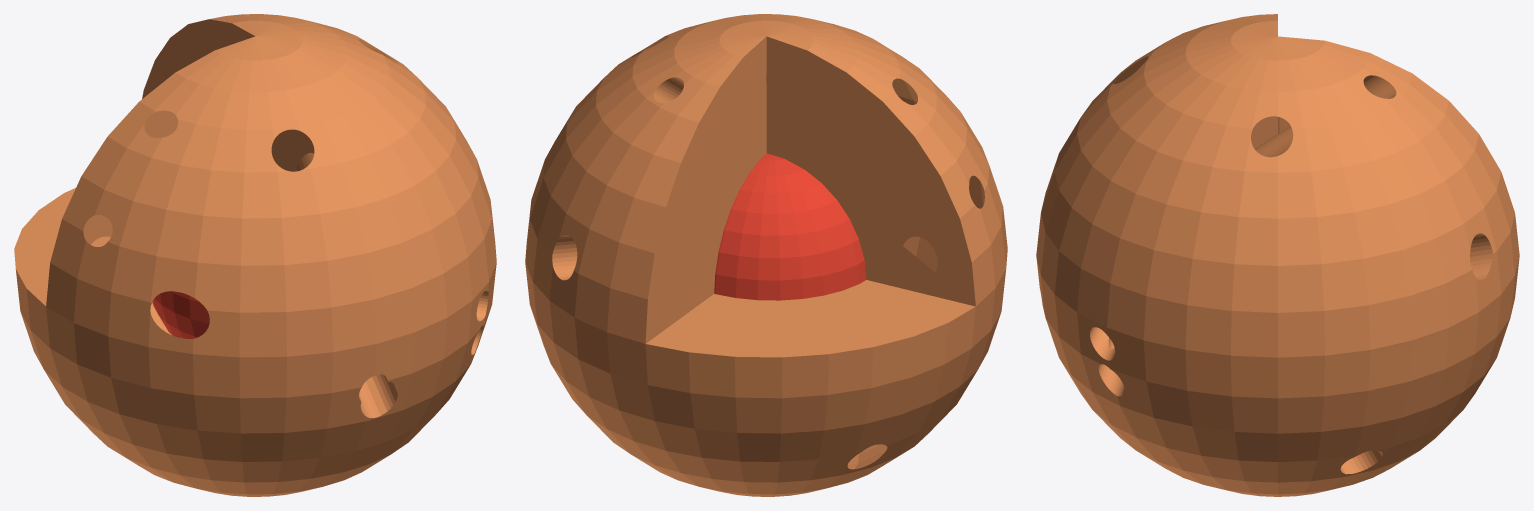
Rendered from intisel.fbx.
The picture shows the model from 3 angles, left to right: view 1: azimuth 30°, elevation 25°; view 2: azimuth 150°, elevation 25°; view 3: azimuth 270°, elevation 25°; orthographic projection.
Visible parts, largest first — view 1: Sphere.003, Sphere; view 2: Sphere.003, Sphere; view 3: Sphere.003.
Part boxes in pixels (x1,y1,x2,y2): Sphere.003: (14, 14, 496, 496); Sphere: (152, 291, 209, 338); Sphere.003: (525, 14, 1007, 496); Sphere: (714, 153, 866, 300); Sphere.003: (1036, 14, 1519, 496).
Size of the model in its own units: 63.88 by 63.88 by 63.88.
